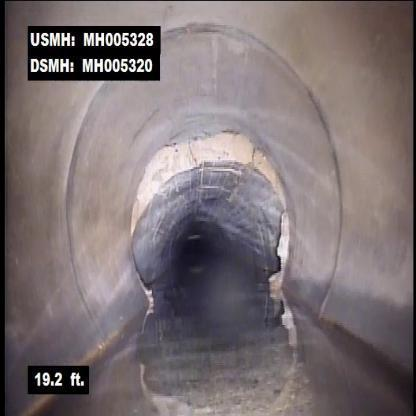Joint_offset: (137, 127, 283, 194), (123, 194, 156, 247)
